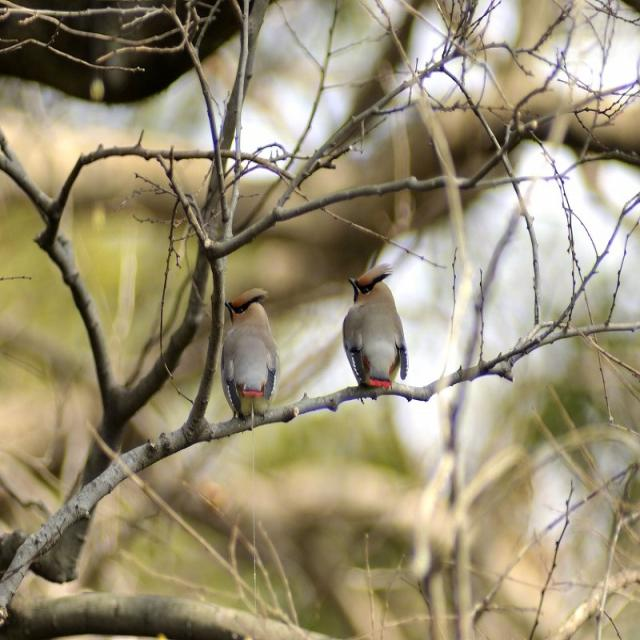bird: (342, 258, 410, 394), (218, 292, 279, 432)
